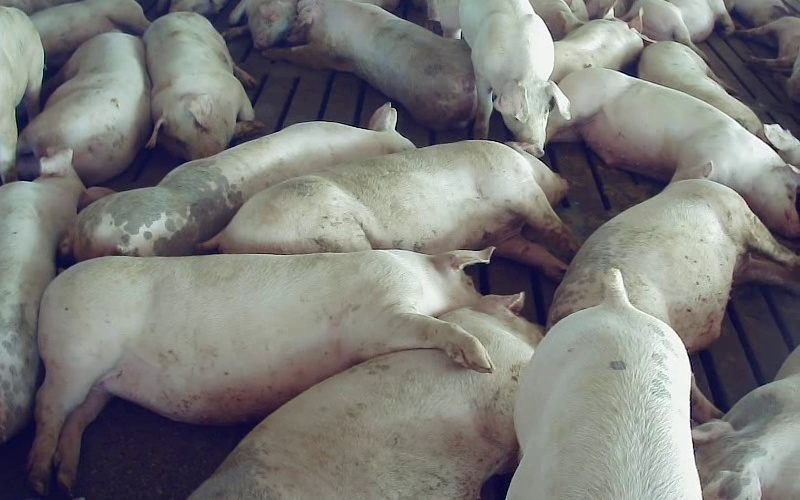pig: (31, 248, 492, 492), (190, 295, 542, 499), (67, 103, 414, 260), (203, 140, 577, 278), (549, 163, 799, 351), (508, 269, 700, 499), (547, 68, 799, 237), (0, 149, 111, 442), (264, 0, 476, 128), (437, 0, 569, 156), (18, 32, 151, 185), (143, 12, 263, 159), (692, 346, 799, 499), (638, 41, 764, 138), (550, 7, 643, 82)
